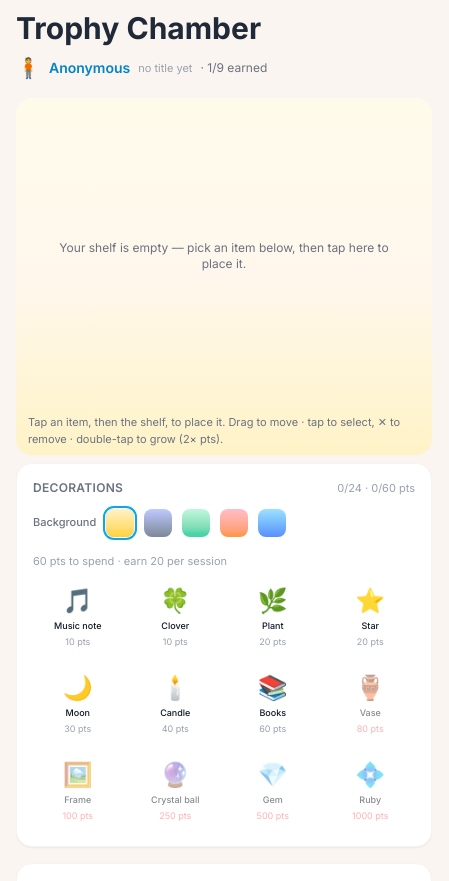
Test: Chamber page › removing an item frees capacity again
Click the button with aria-label "Pick up Candle, 40 points". click: (175, 704)
box: x1=130 y1=664 x2=220 y2=743
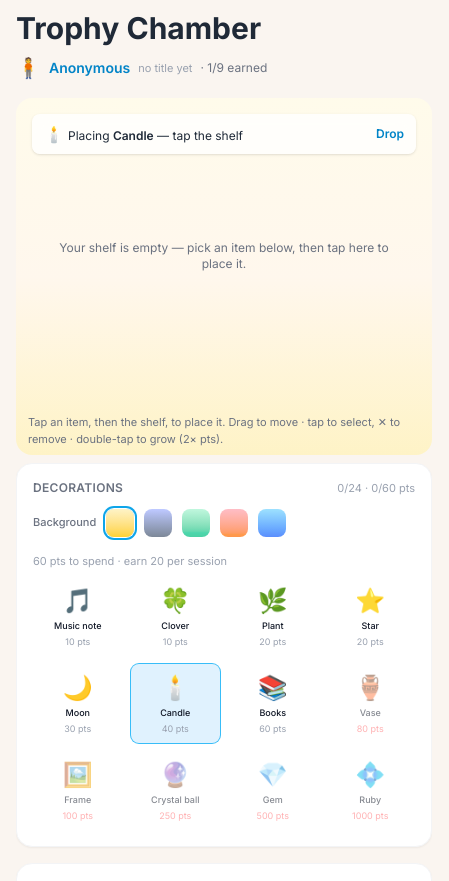
Click the element "shelf". click: (224, 134)
box: x1=32 y1=114 x2=416 y2=271
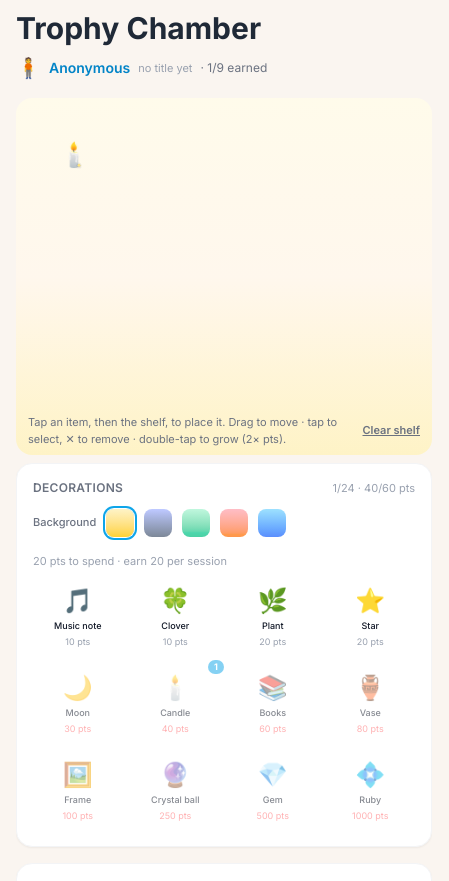
Click the button with aria-label "Pick up Star, 20 points". click: (370, 616)
box: x1=326 y1=577 x2=415 y2=656
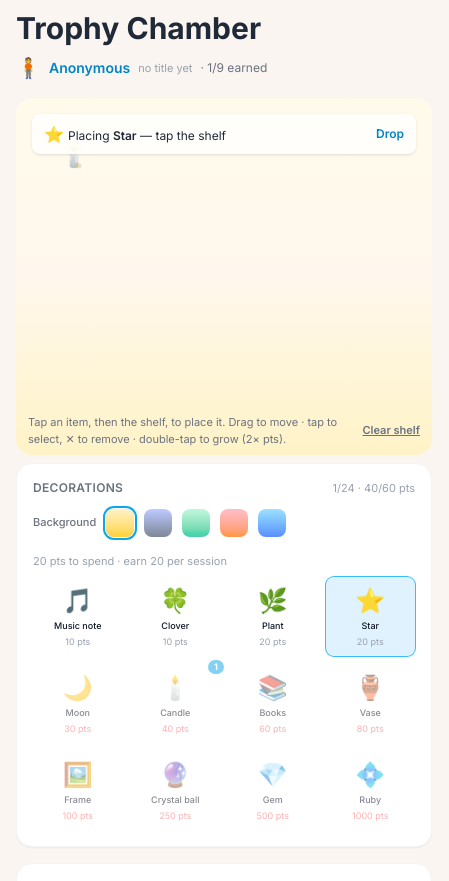
Click the element "shelf". click: (224, 141)
box: x1=32 y1=114 x2=416 y2=168
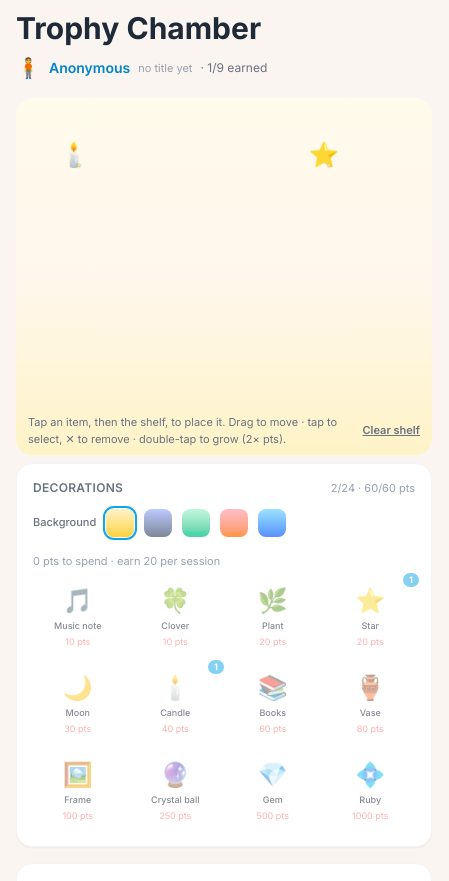
Expected: the button with aria-label "Pick up Plant, 20 points" is disabled, x1=228 y1=577 x2=318 y2=656
Note: Remove the candle: 40 pts of capacity come back.
Click the button named "Candle on the shelf". click: (74, 155)
box: x1=59 y1=143 x2=89 y2=167
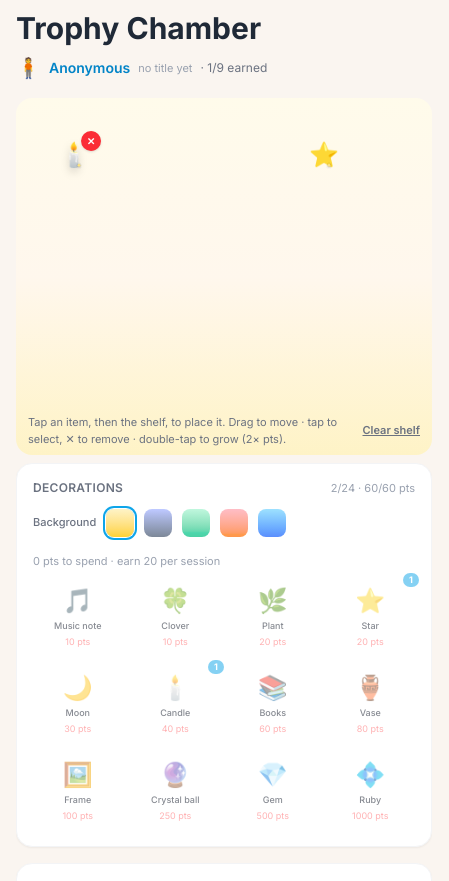
Click the button named "Remove Candle". click: (91, 141)
box: x1=81 y1=131 x2=101 y2=151
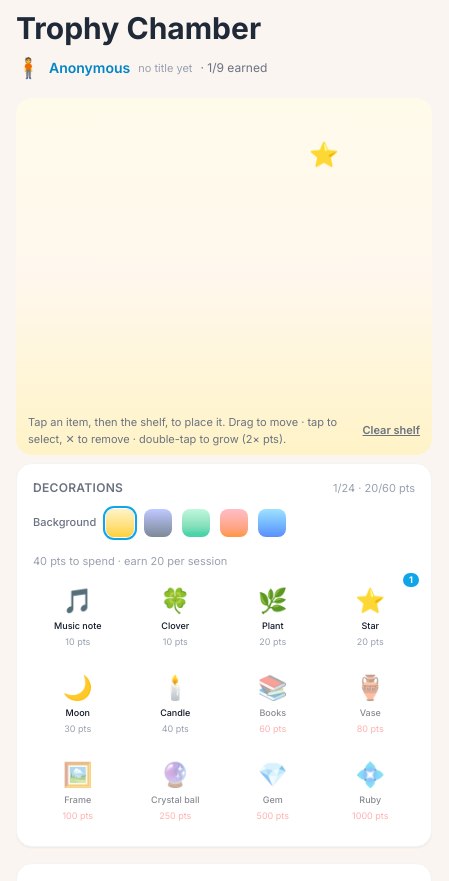
Expected: the button with aria-label "Pick up Plant, 20 points" is enabled, x1=228 y1=577 x2=318 y2=656
